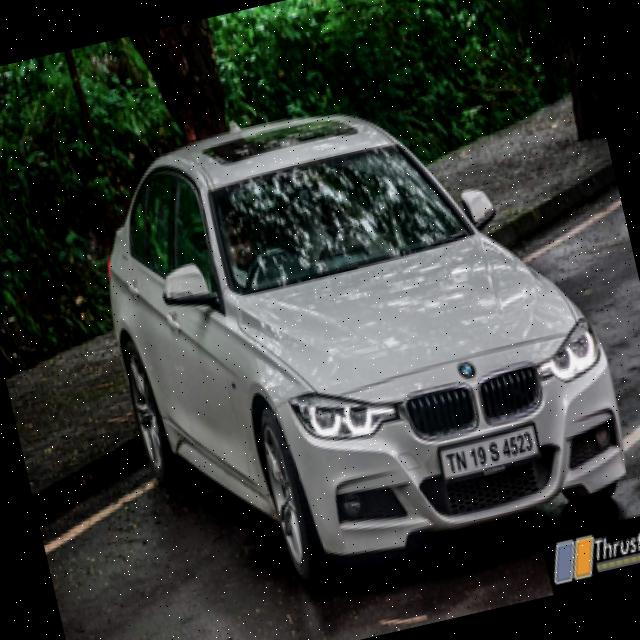Autre: (434, 416, 542, 477)
